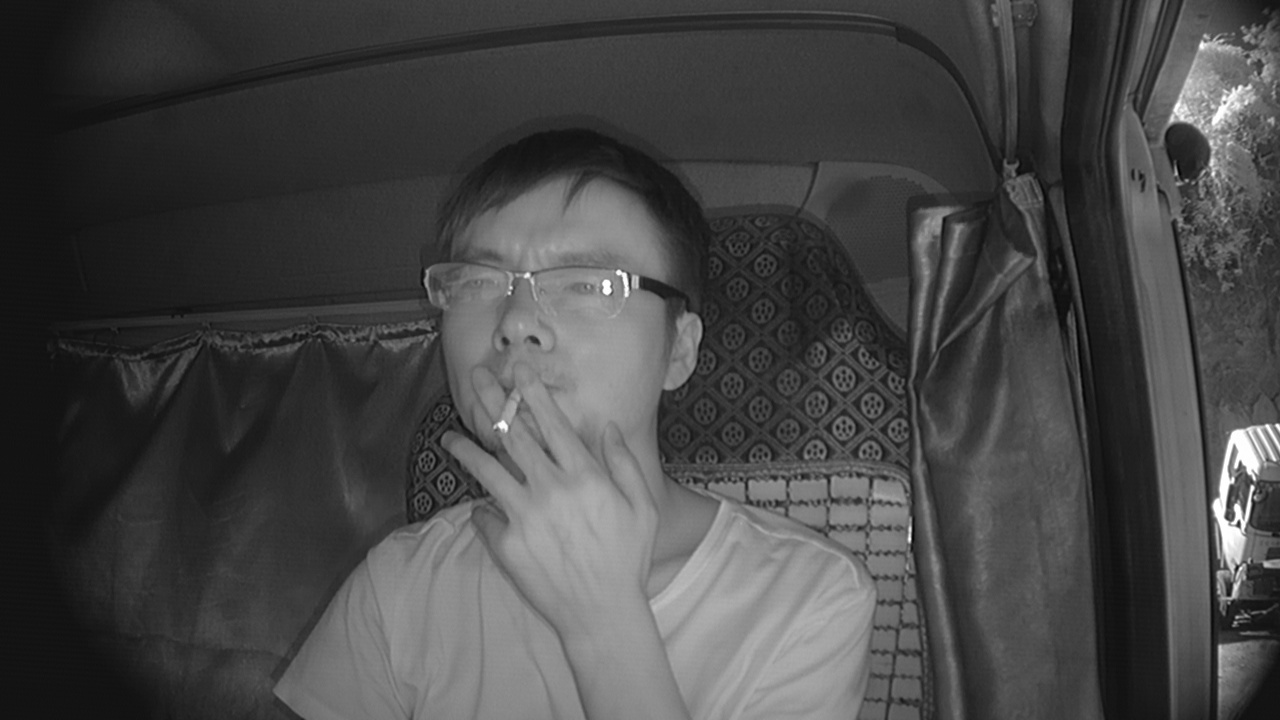hand: (465, 348, 663, 591)
